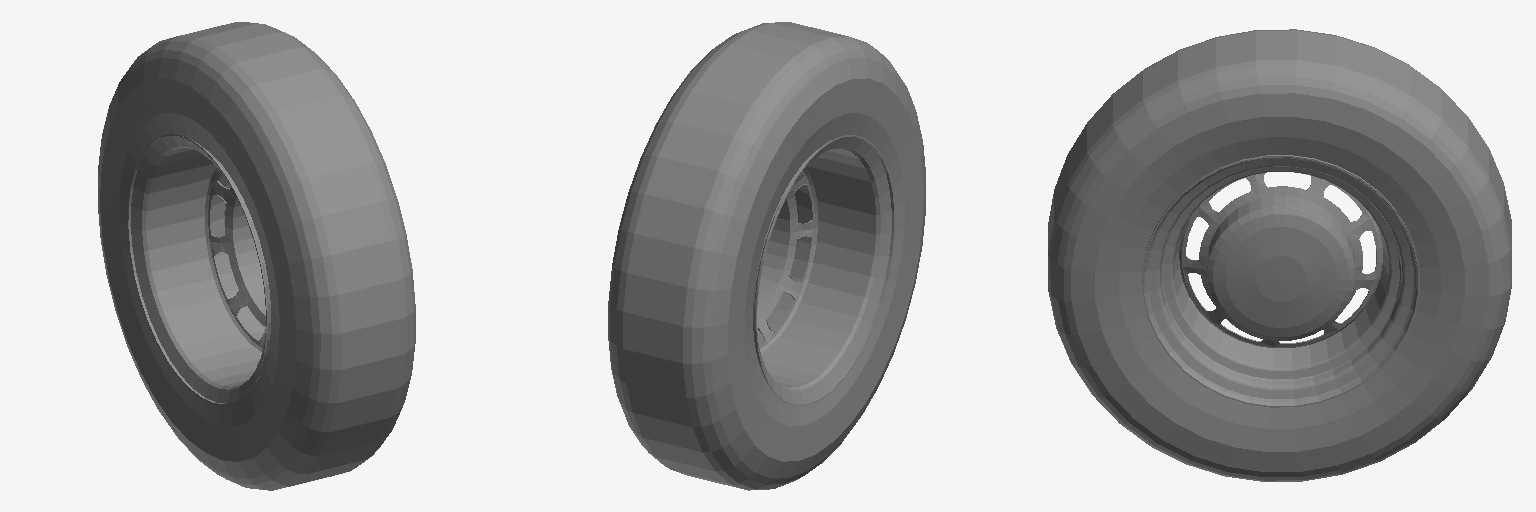
The model's file is llanta3.obj.
The picture shows the model from 3 angles: view 1: azimuth 30°, elevation 25°; view 2: azimuth 150°, elevation 25°; view 3: azimuth 270°, elevation 25°; orthographic projection.
Visible parts, largest first — view 1: Pneu_E_Front; view 2: Pneu_E_Front; view 3: Pneu_E_Front.
Boxes of the visible parts, x1,y1,x2,y2 form: Pneu_E_Front: [98, 22, 415, 490]; Pneu_E_Front: [608, 22, 925, 490]; Pneu_E_Front: [1048, 29, 1511, 481].
Bounding box in the file's own units: 1.63 × 5.62 × 5.62.